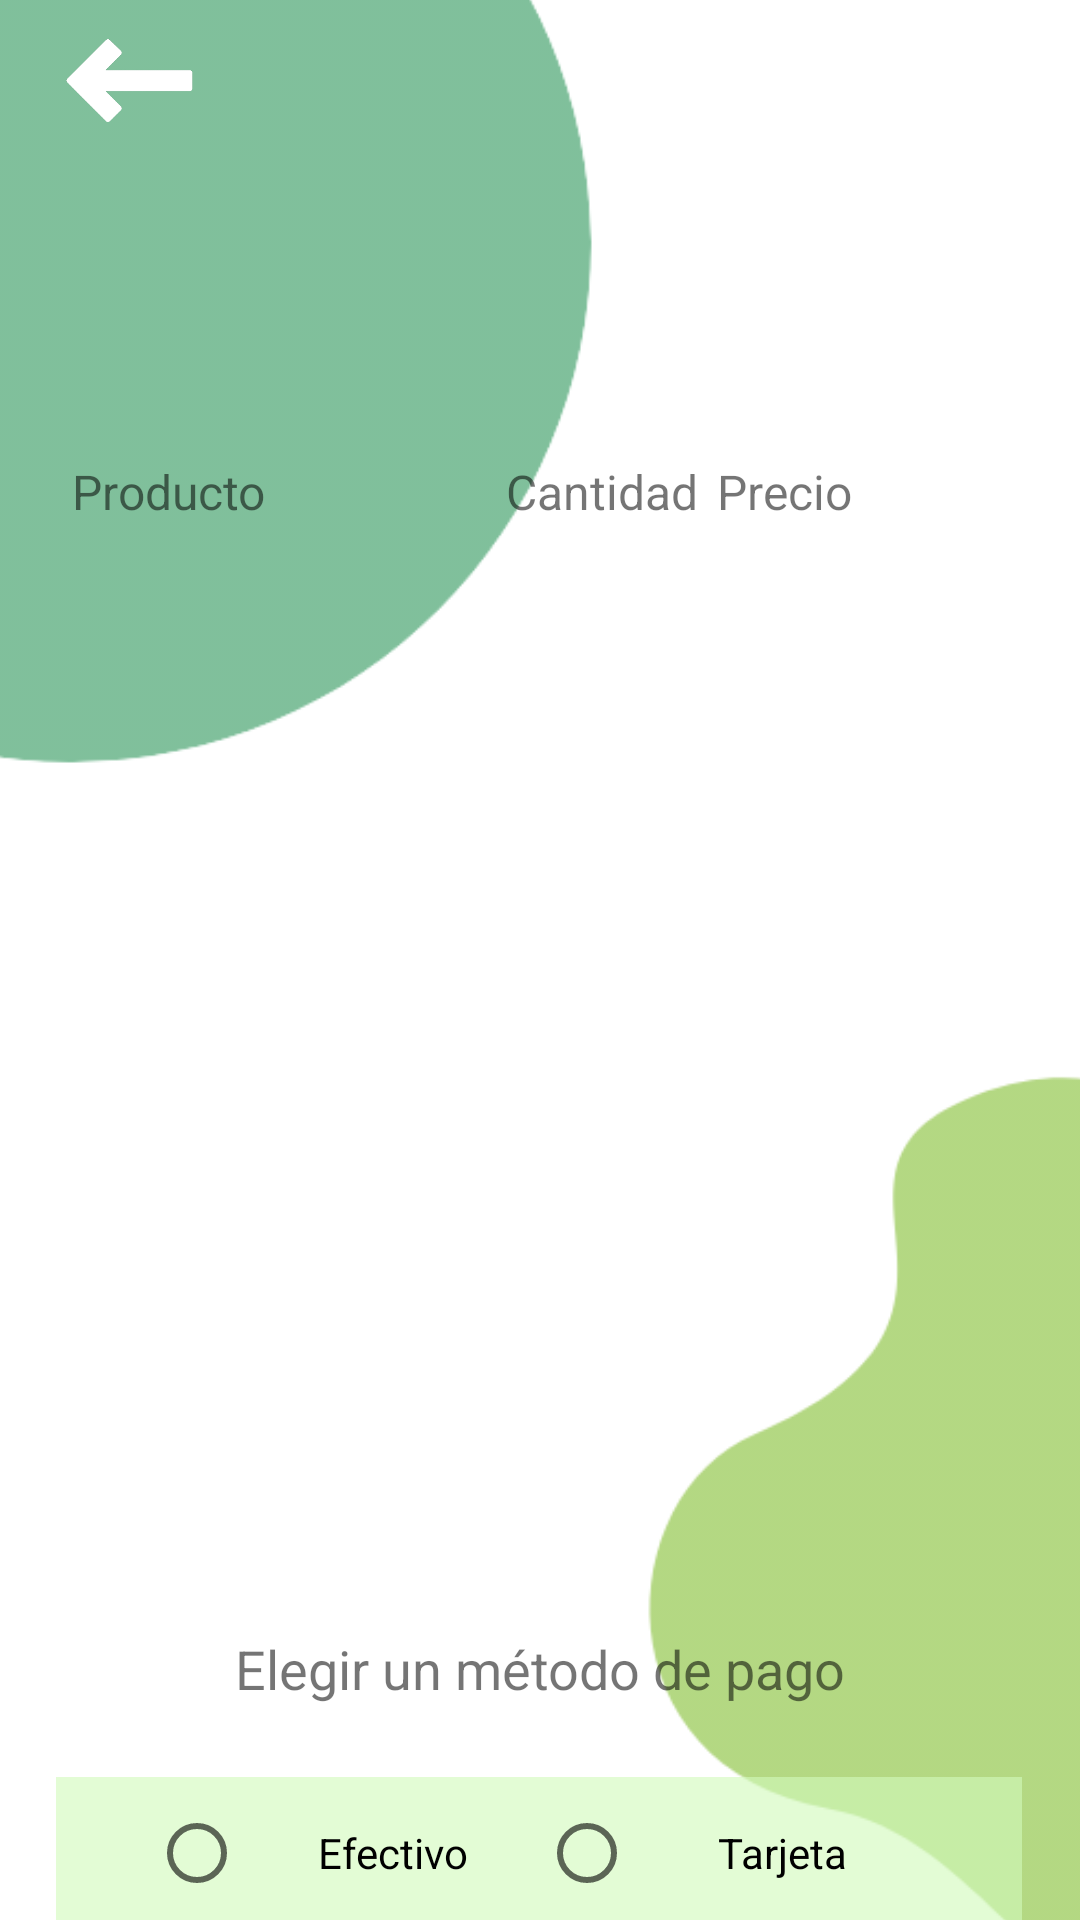

Screen size 1080x1920. Icon name, then its box in pixels as [x1,y1,x2,y2]:
arrowback: [66,39,193,122]
